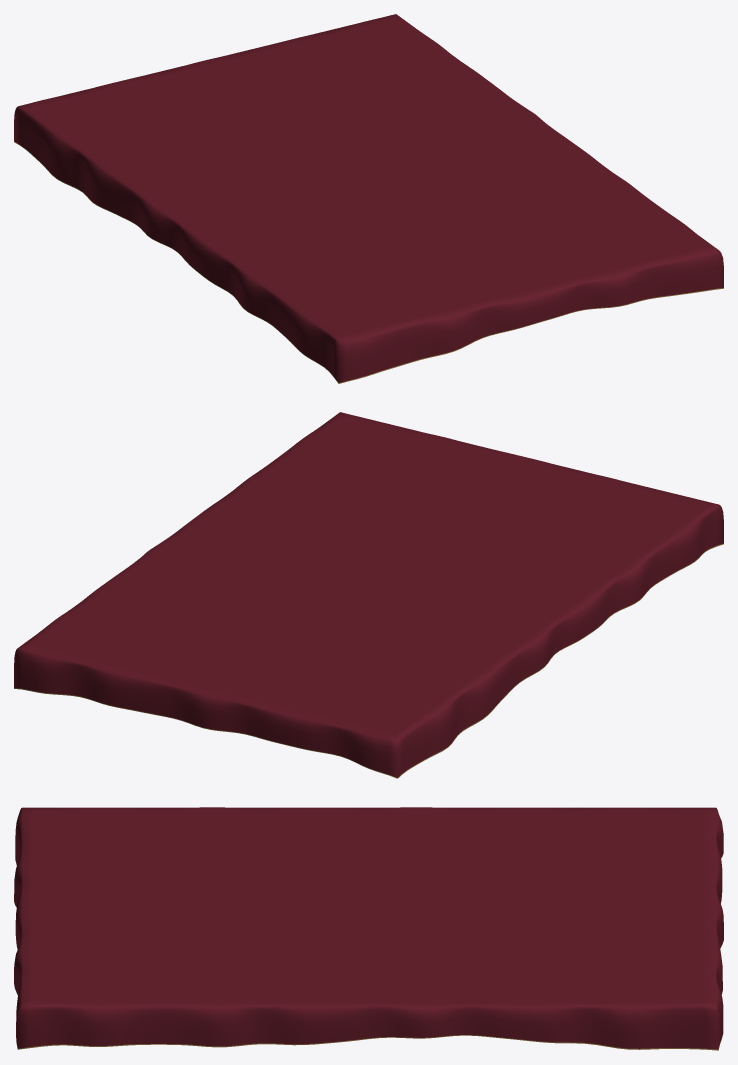
Rendered from silk_tablecloth.glb.
The picture shows the model from 3 angles, top to bottom: view 1: azimuth 30°, elevation 25°; view 2: azimuth 150°, elevation 25°; view 3: azimuth 270°, elevation 25°; orthographic projection. The views are drawn at different scales.
Parts seen in each view (by area): view 1: SilkTablecloth; view 2: SilkTablecloth; view 3: SilkTablecloth.
Boxes of the visible parts, x1,y1,x2,y2 form: SilkTablecloth: (14, 14, 723, 383); SilkTablecloth: (14, 412, 723, 778); SilkTablecloth: (14, 807, 723, 1050).
Bounding box in the file's own units: 23.35 × 2.29 × 34.05.
